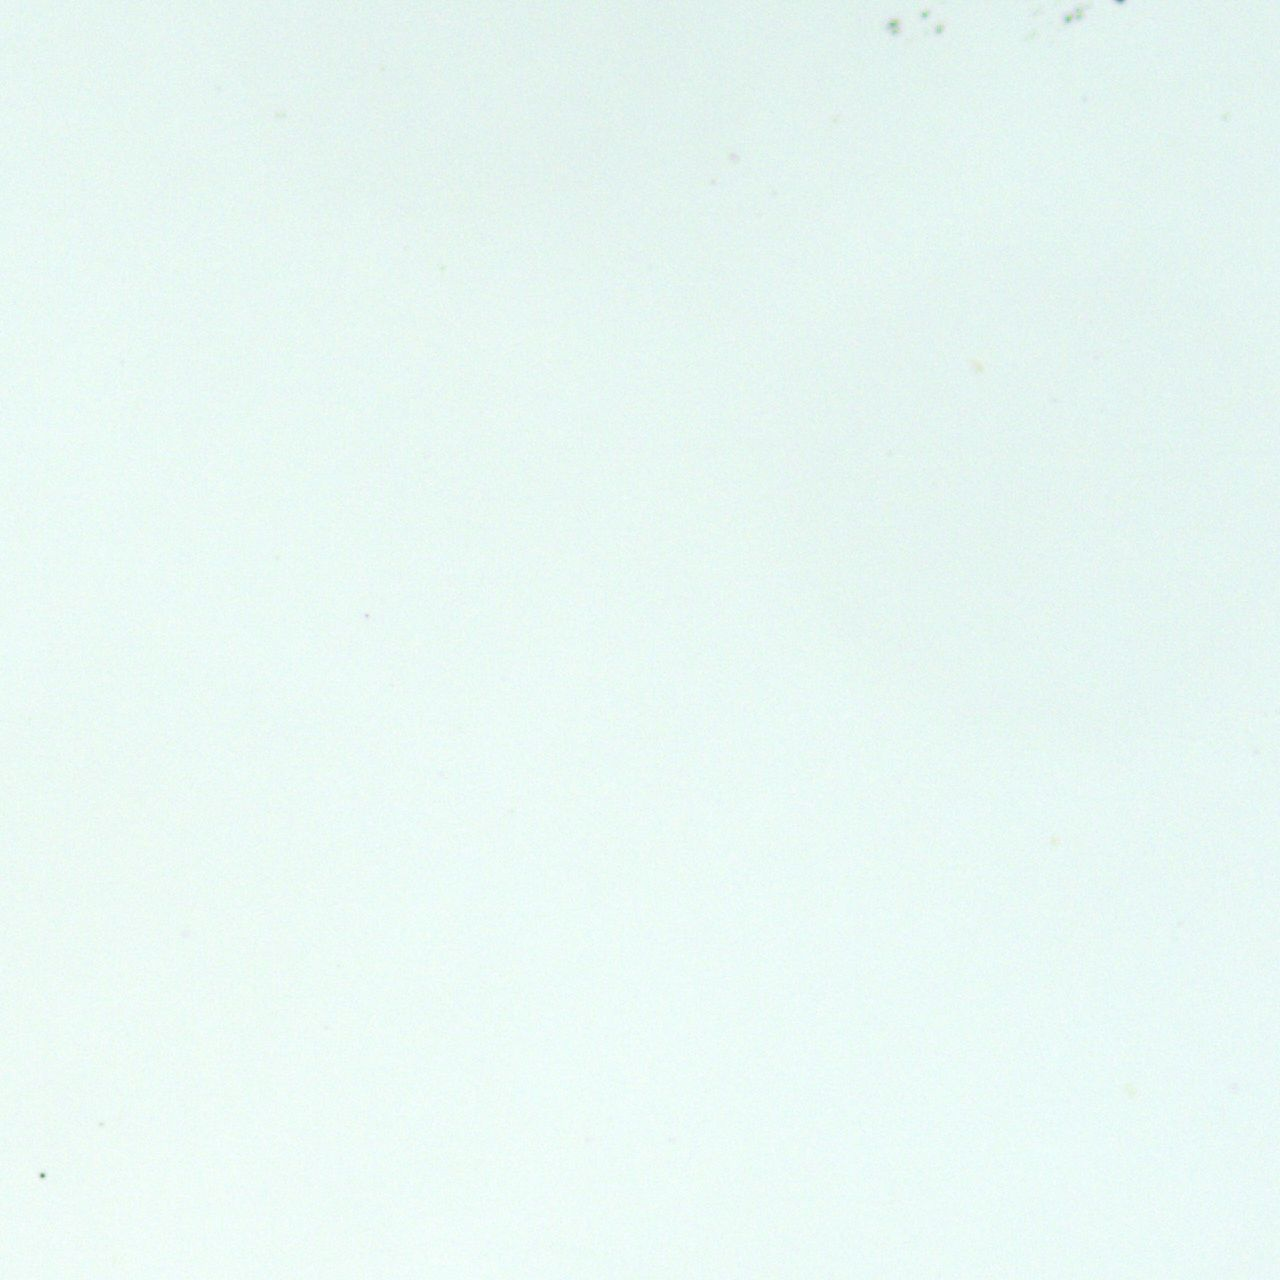dust: (1073, 6, 1087, 23), (886, 19, 899, 35), (919, 6, 930, 19), (1062, 14, 1073, 25), (38, 1170, 48, 1180), (935, 25, 944, 33)
